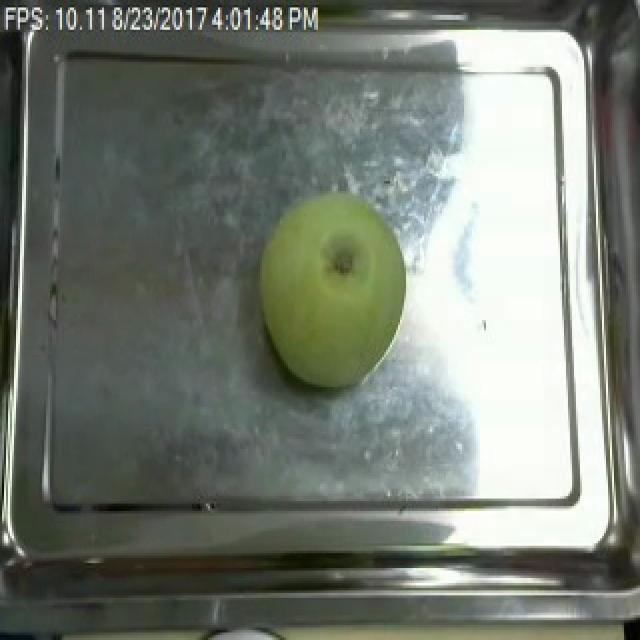50-_ripeness: (252, 190, 420, 412)
